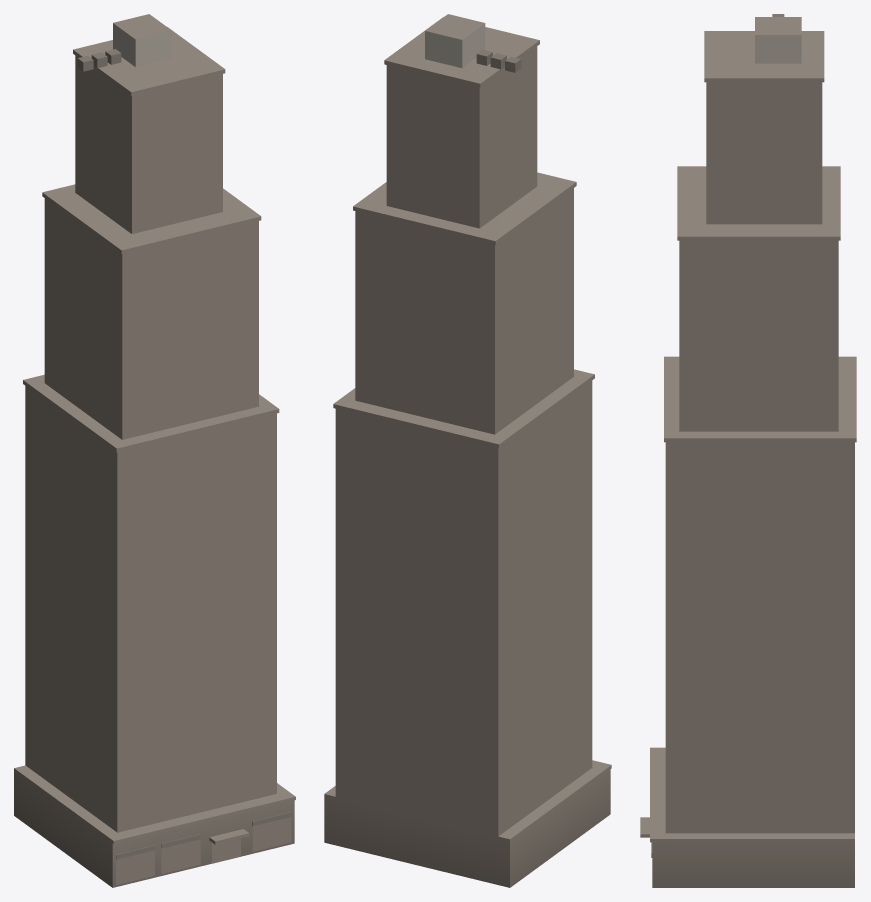
The model's file is tower_office_a.glb.
3 views of the same model, side by side, from view 1: azimuth 30°, elevation 25°; view 2: azimuth 150°, elevation 25°; view 3: azimuth 270°, elevation 25° (orthographic). The views are drawn at different scales.
Parts seen in each view (by area): view 1: tower_office_a; view 2: tower_office_a; view 3: tower_office_a.
Part boxes in pixels (x1,y1,x2,y2): tower_office_a: [14, 14, 295, 887]; tower_office_a: [324, 14, 611, 887]; tower_office_a: [640, 14, 856, 887].
Bounding box in the file's own units: 28.8 × 120 × 28.85.
